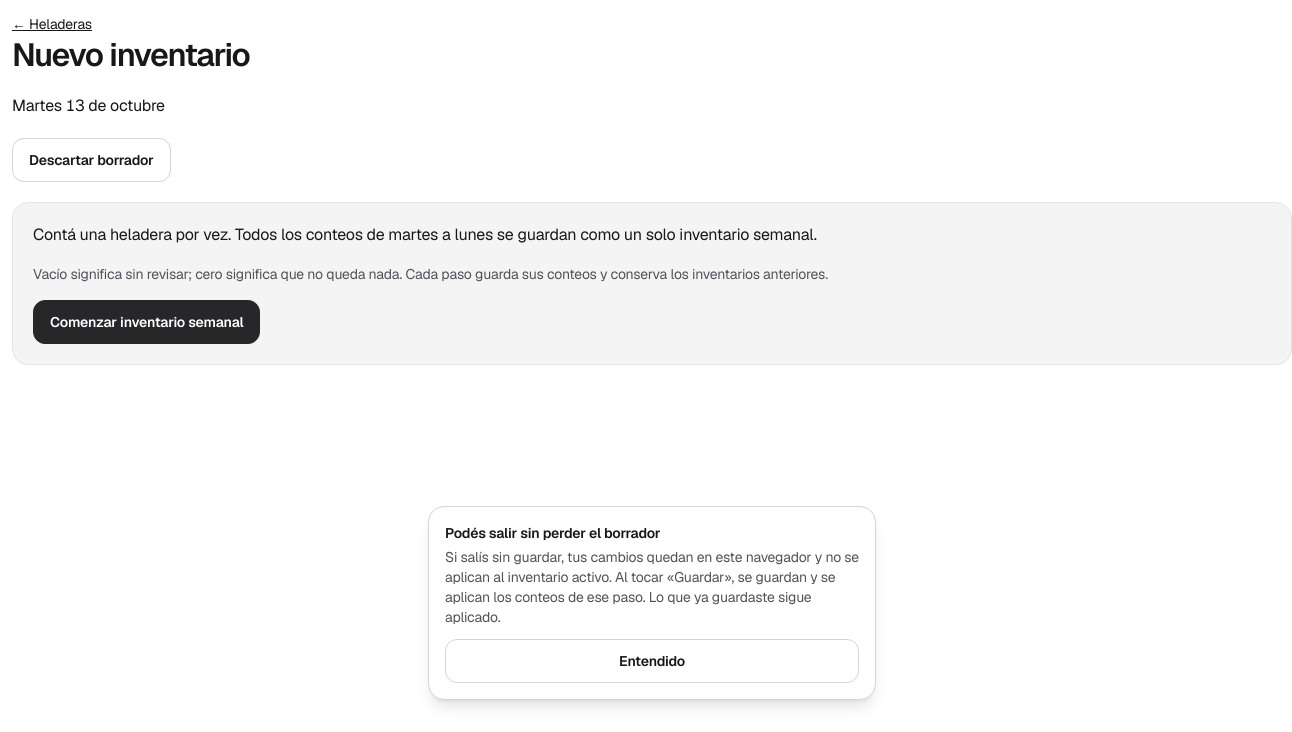
Test case: leaves untouched items uncounted rather than recording zero
Click the button "Comenzar inventario semanal" at [147, 322], box [33, 300, 260, 344]
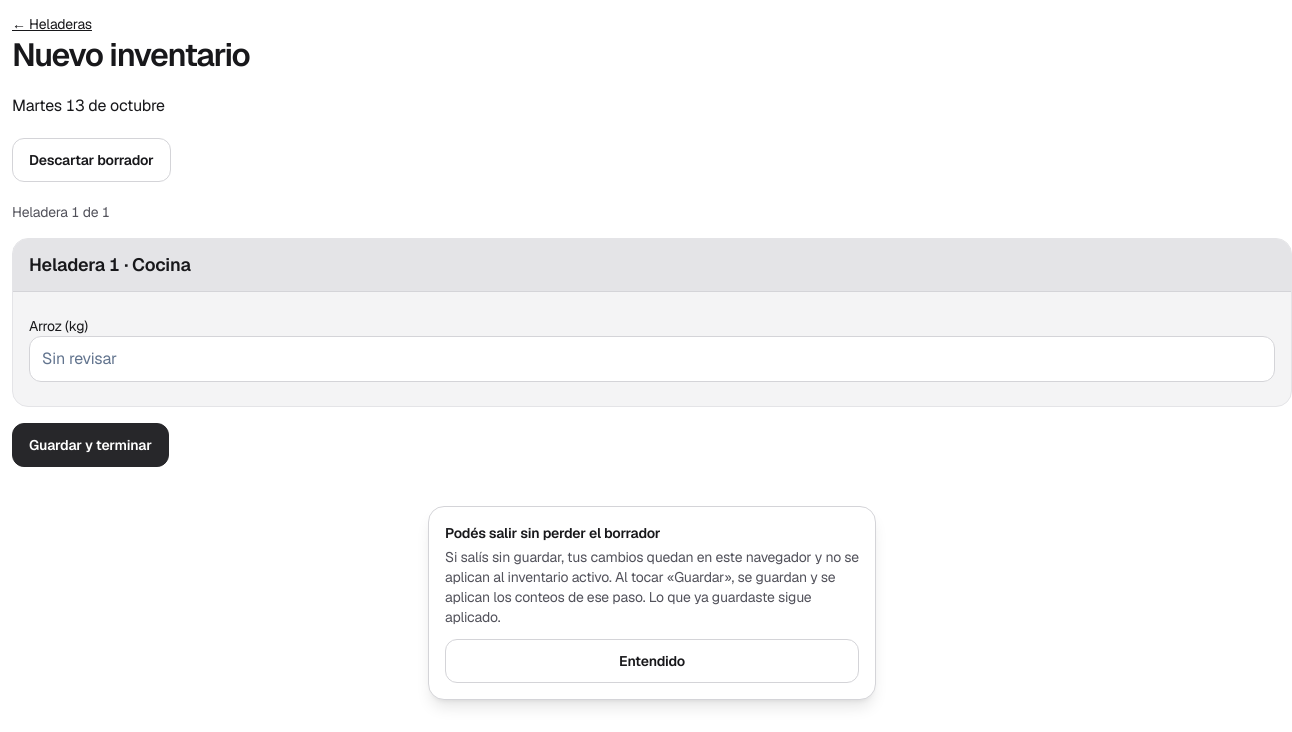
Click the button "Guardar y terminar" at [90, 445], box [12, 423, 169, 467]
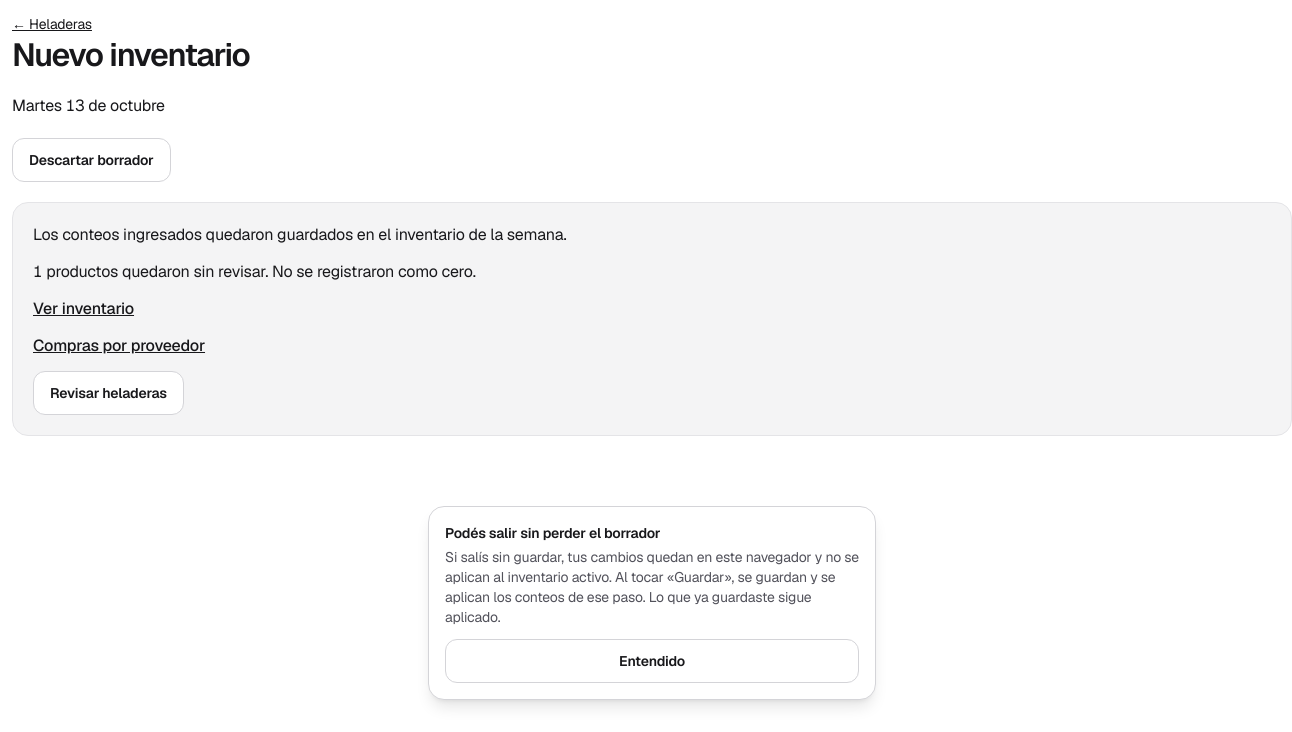
Now the text "1 productos quedaron sin revisar. No se registraron como cero." is shown, box [33, 261, 476, 282]
